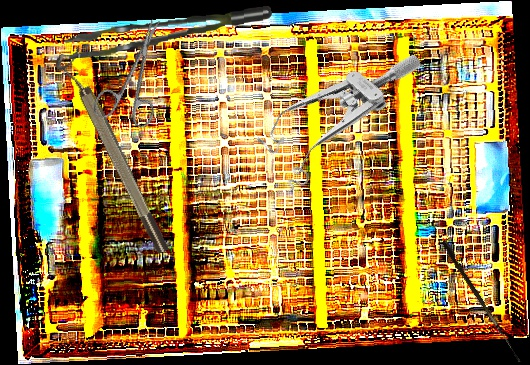Fixation Ring: (52, 46, 173, 260)
Hook Surgical: (439, 239, 526, 363)
Iris Scissors: (90, 9, 186, 135)
Speculum: (244, 11, 424, 205)
Tissue Forceps: (62, 6, 274, 59)
